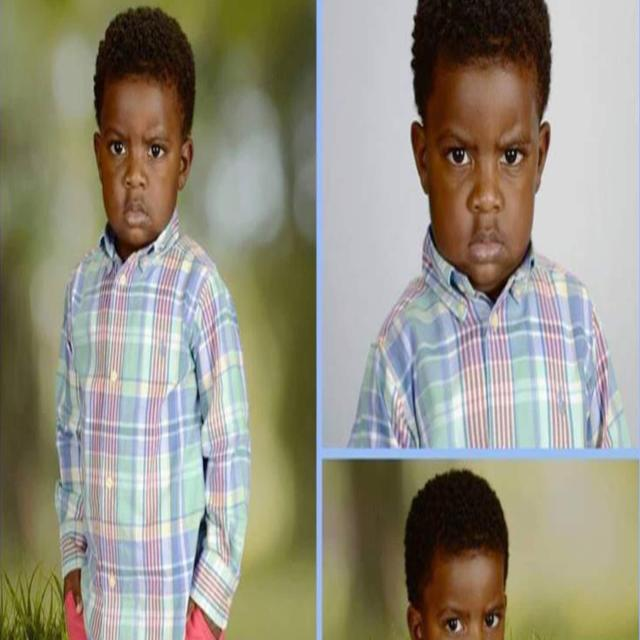child: (354, 1, 635, 451), (56, 6, 254, 640), (401, 470, 509, 640)
